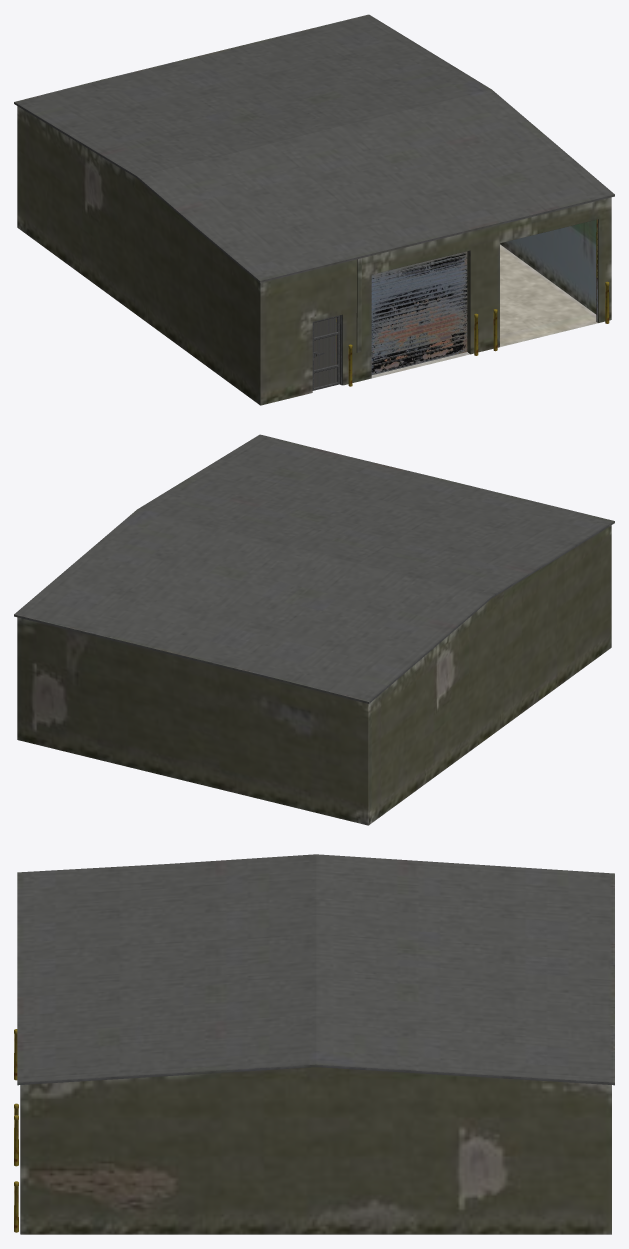
The model's file is warehouse.glb.
The picture shows the model from 3 angles, top to bottom: view 1: azimuth 30°, elevation 25°; view 2: azimuth 150°, elevation 25°; view 3: azimuth 270°, elevation 25°; orthographic projection. The views are drawn at different scales.
Visible parts, largest first — view 1: warehouseRoof, buildWarehouse, wareHouse-Gate, warehouseFloor, internalArea, wareHousedoor; view 2: warehouseRoof, buildWarehouse; view 3: warehouseRoof, buildWarehouse.
Boxes of the visible parts, x1,y1,x2,y2 form: warehouseRoof: [14, 14, 614, 282]; buildWarehouse: [17, 106, 611, 405]; wareHouse-Gate: [371, 251, 467, 374]; warehouseFloor: [371, 244, 597, 378]; internalArea: [500, 220, 596, 314]; wareHousedoor: [312, 315, 341, 390]; warehouseRoof: [14, 434, 614, 703]; buildWarehouse: [17, 525, 611, 825]; warehouseRoof: [17, 854, 614, 1085]; buildWarehouse: [20, 1067, 611, 1234].
Size of the model in its own units: 10.1 by 3.85 by 12.19.
Materials: 2 (2 with a texture image).
